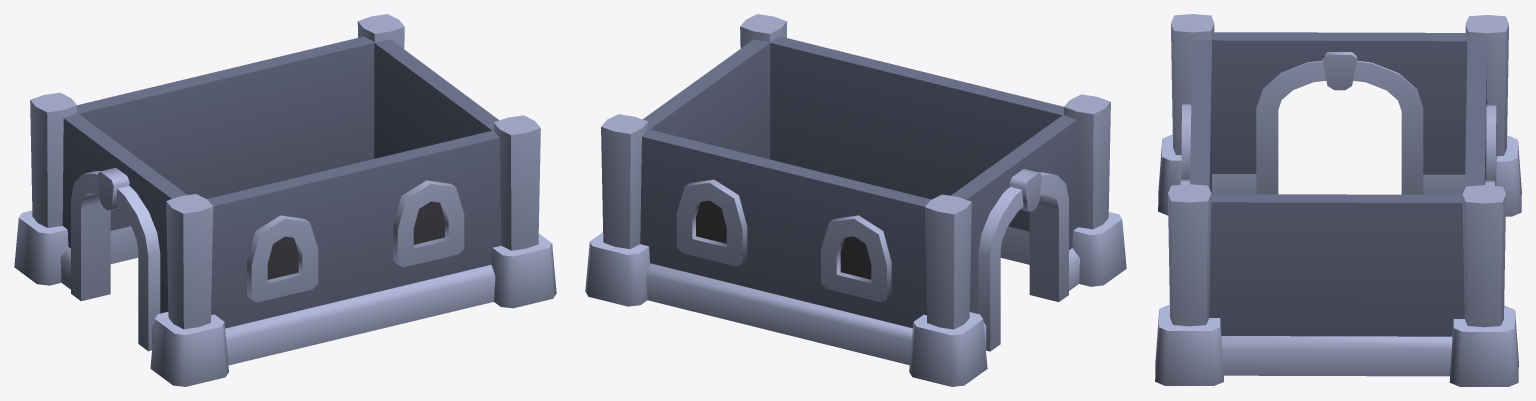
Rendered from crypt-large.005_lev2.glb.
3 renders of one model, left to right at view 1: azimuth 30°, elevation 25°; view 2: azimuth 150°, elevation 25°; view 3: azimuth 270°, elevation 25°, orthographic. The views are drawn at different scales.
Visible parts, largest first — view 1: crypt-large.005_lev2; view 2: crypt-large.005_lev2; view 3: crypt-large.005_lev2.
Part boxes in pixels (x1,y1,x2,y2): crypt-large.005_lev2: (14,14,556,386); crypt-large.005_lev2: (585,14,1126,386); crypt-large.005_lev2: (1155,14,1521,386).
Size of the model in its own units: 38.61 by 16 by 29.87.
Materials: 1 (1 with a texture image).
